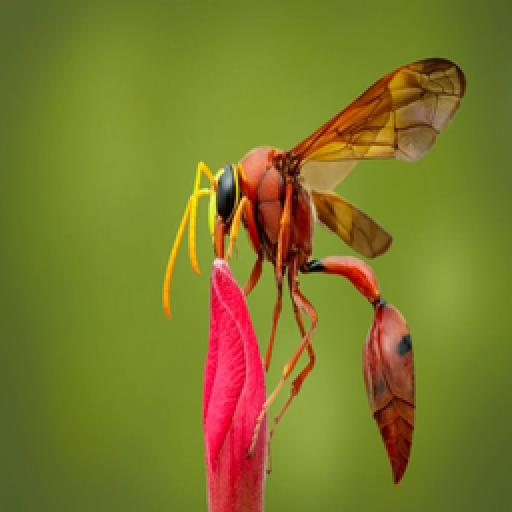insects: (148, 50, 468, 486)
